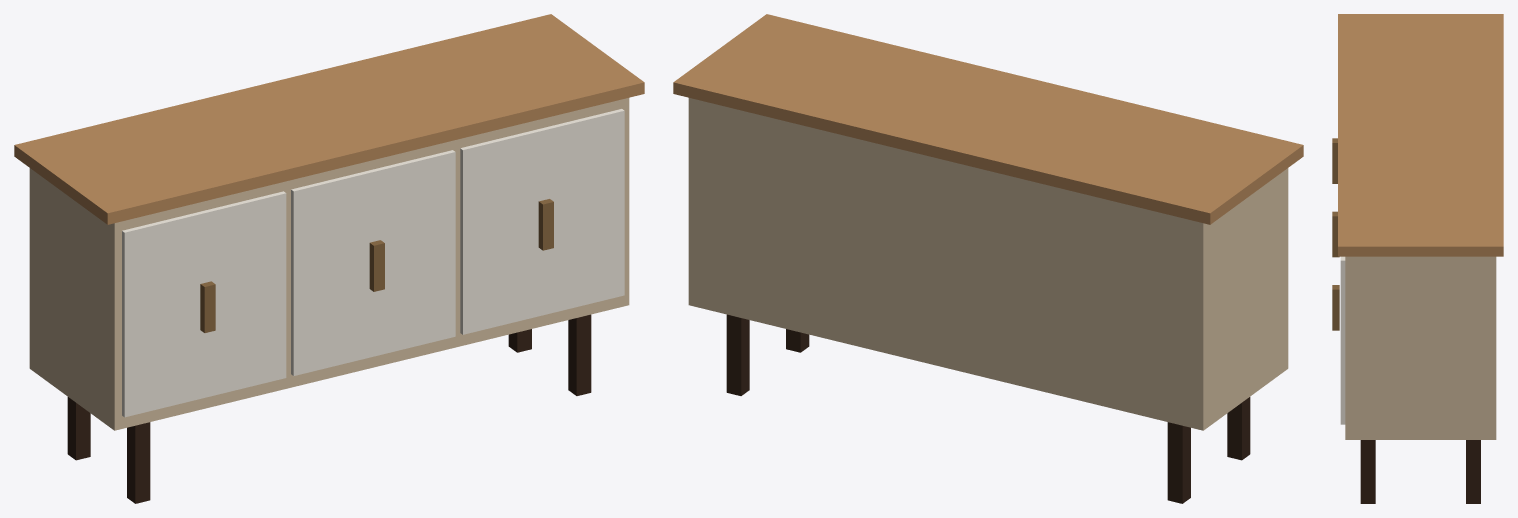
File: komoda.glb
3 renders of one model, left to right at view 1: azimuth 30°, elevation 25°; view 2: azimuth 150°, elevation 25°; view 3: azimuth 270°, elevation 25°, orthographic. The views are drawn at different scales.
Bounding box in the file's own units: 1.46 × 0.805 × 0.455.
